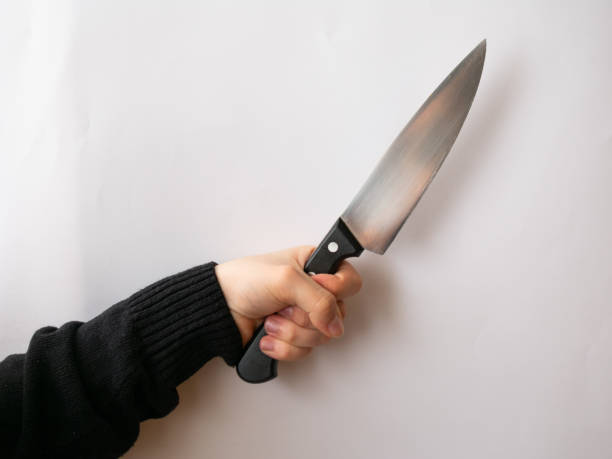knife: (232, 37, 489, 386)
